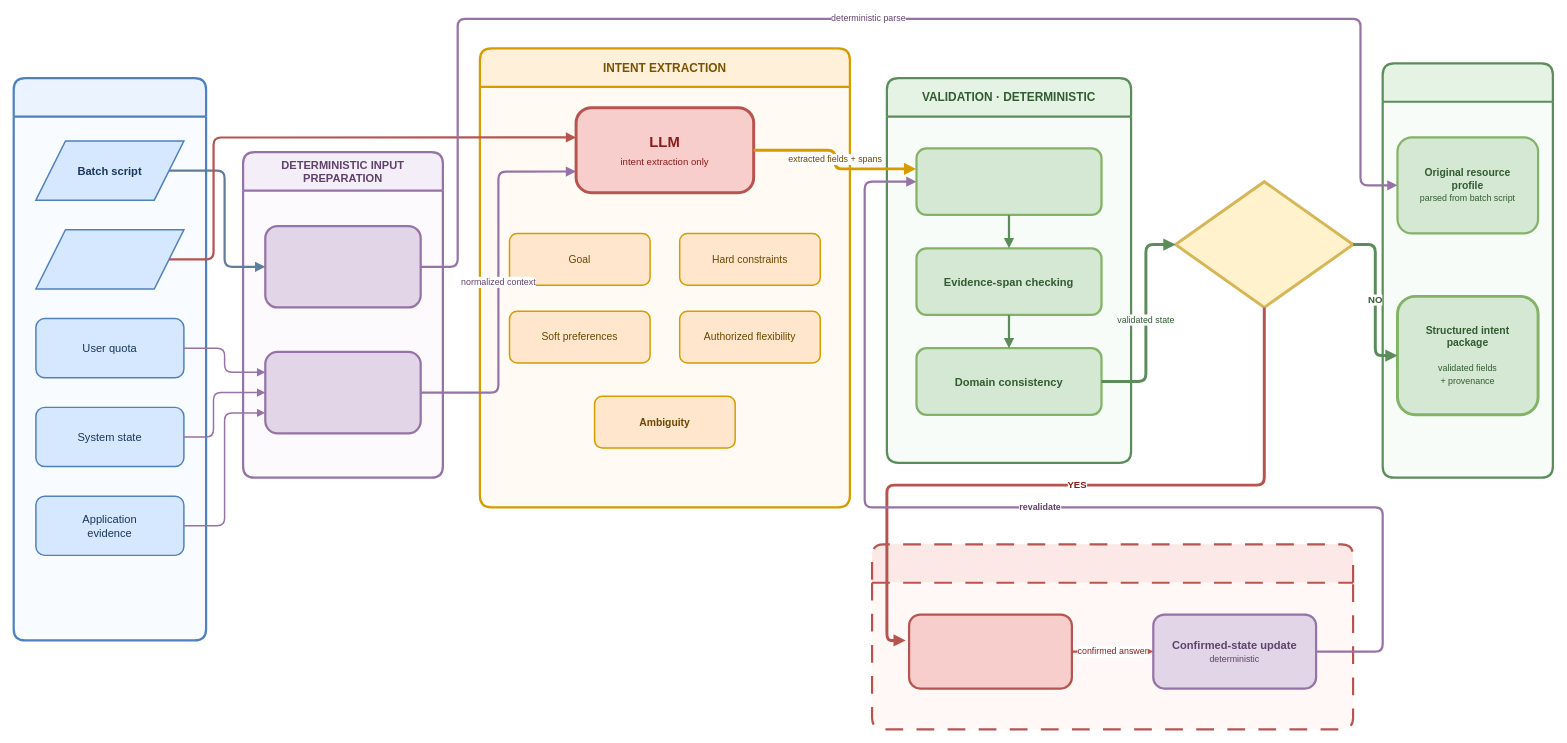
This 1567x743 diagram has some shape labels left out. The box of each missing label's shape, as (x1, y1, x2, y2) in pixels:
Ambiguity can change the decision?: (1174, 180, 1354, 309)
Ask user for clarification: (908, 613, 1073, 689)
ASK-BACK LOOP · ONLY WHEN DECISION-CHANGING: (871, 543, 1354, 730)
Batch-script parser deterministic: (264, 225, 421, 308)
Context normalization quota · state · evidence: (264, 350, 421, 434)
INPUT SOURCES: (12, 77, 207, 641)
Natural-language intent: (35, 229, 184, 289)
Schema validation: (915, 147, 1102, 216)
STRUCTURED OUTPUTS: (1381, 62, 1554, 478)
